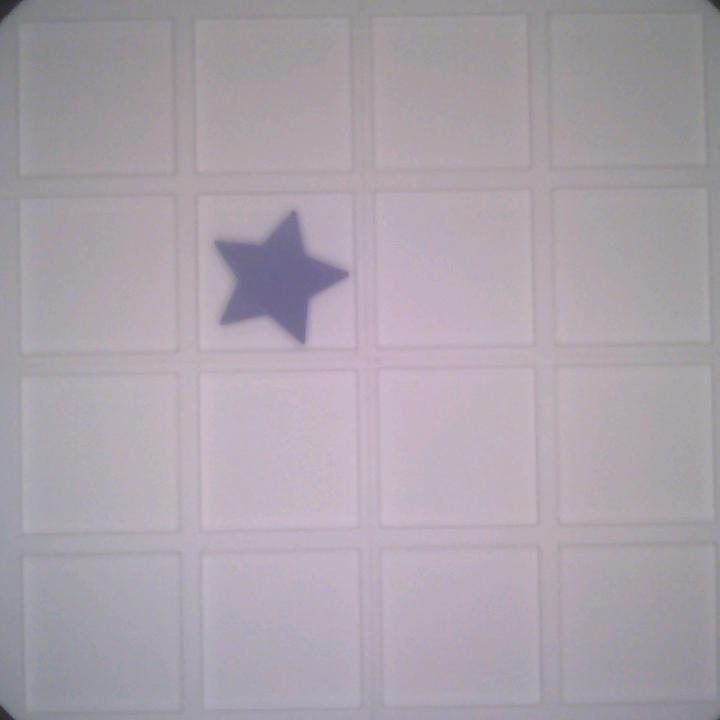Blue star: (208, 207, 349, 343)
